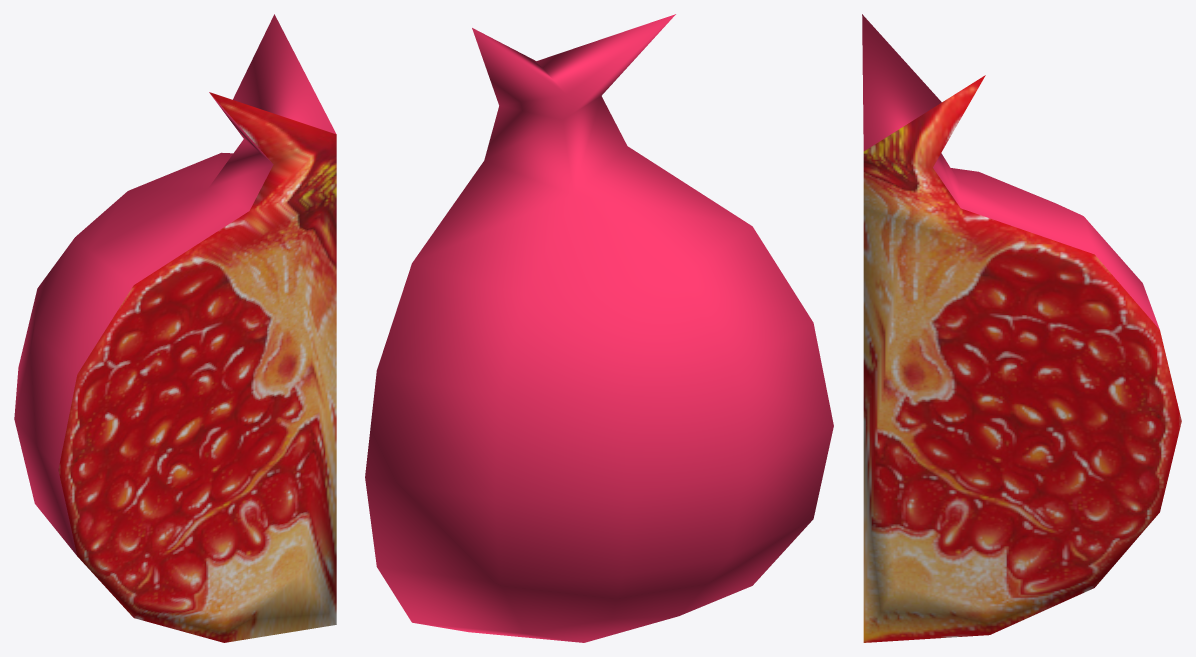
The model's file is grenade-quarter.fbx.
The picture shows the model from 3 angles, left to right: view 1: azimuth 30°, elevation 25°; view 2: azimuth 150°, elevation 25°; view 3: azimuth 270°, elevation 25°; orthographic projection. The views are drawn at different scales.
Parts seen in each view (by area): view 1: Grenade-quarter; view 2: Grenade-quarter; view 3: Grenade-quarter.
Boxes of the visible parts, left/top/right/bottom form: Grenade-quarter: left=14, top=14, right=336, bottom=642; Grenade-quarter: left=365, top=14, right=833, bottom=642; Grenade-quarter: left=862, top=14, right=1181, bottom=642.
Size of the model in its own units: 107 by 208 by 106.
2 materials, 1 textured.
